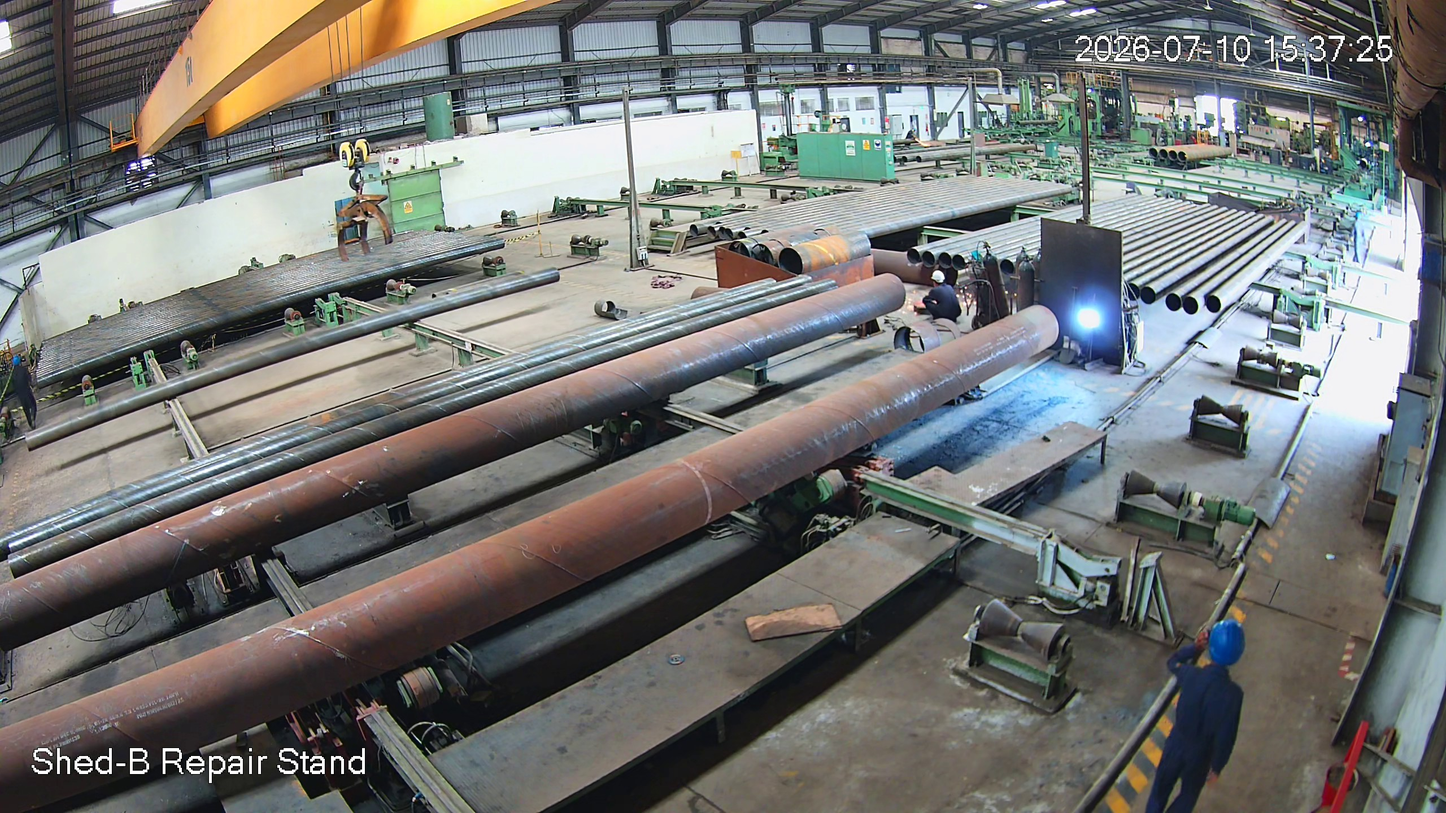Helmet: (1188, 605, 1263, 681), (929, 264, 960, 314)
Person: (1140, 616, 1272, 813), (917, 270, 966, 337)
